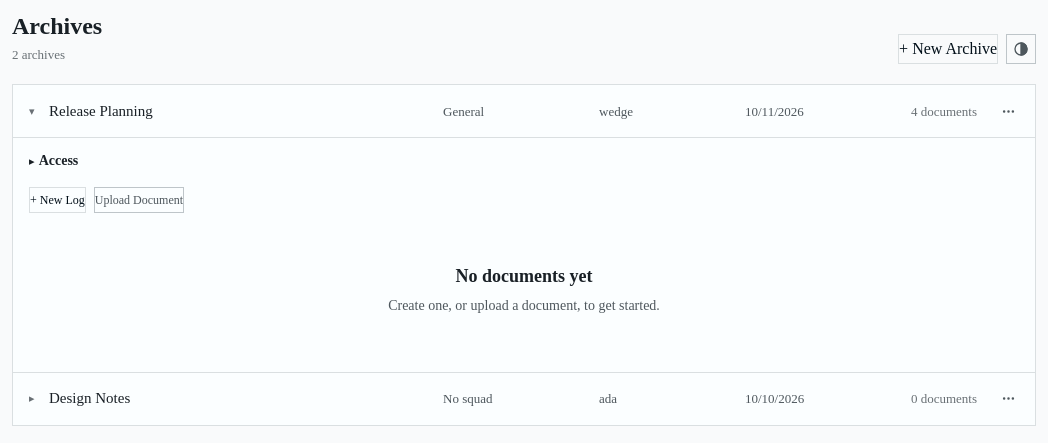
the archive list (X9) › gives each row a More actions menu with Rename, Manage access and Delete
Check: the text "Release Planning" is shown, box [49,100,153,122]
Click the button named "More actions for " at (1008, 111), box [993,96,1023,126]
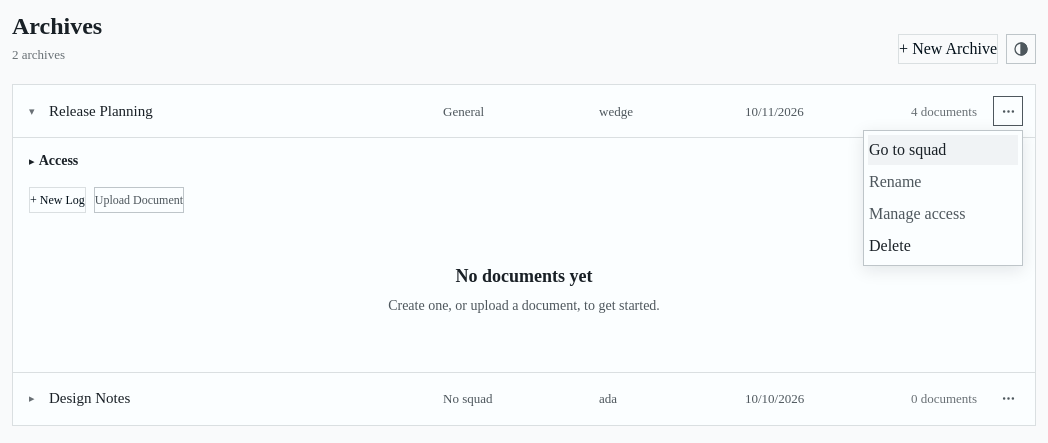
Check: the menu items read "Go to squad", "Rename", "Manage access", "Delete", in this order, box [868,135,1018,165]; [868,167,1018,197]; [868,199,1018,229]; [868,231,1018,261]
